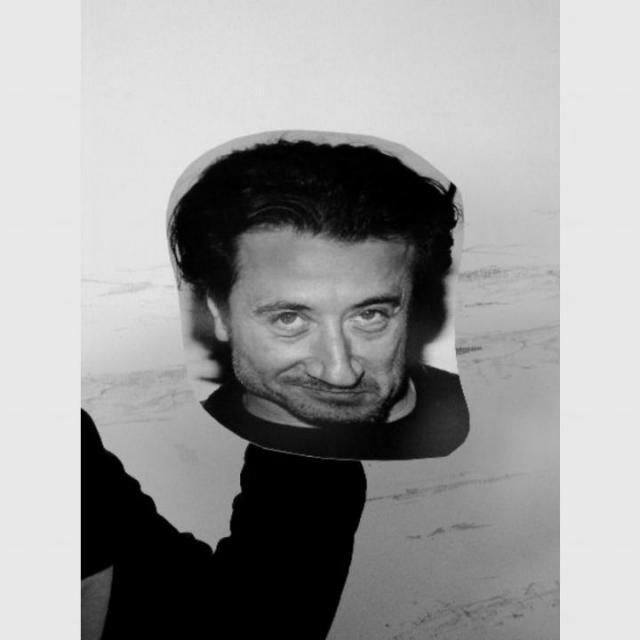fake: (154, 120, 482, 468)
